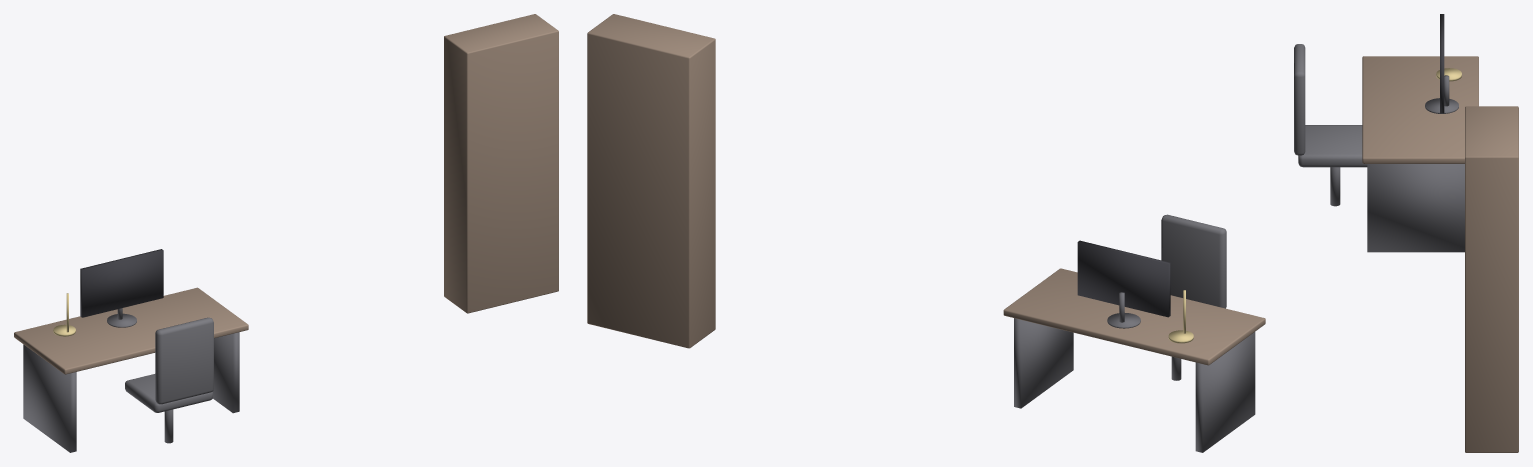
The model's file is room_home_office.glb.
The picture shows the model from 3 angles, left to right: view 1: azimuth 30°, elevation 25°; view 2: azimuth 150°, elevation 25°; view 3: azimuth 270°, elevation 25°; orthographic projection. The views are drawn at different scales.
Visible parts, largest first — view 1: Bookcase_Tower, Desk_Top, Chair_High_Back, Monitor_Panel, Desk_Leg_L, Desk_Leg_R, Chair_Cushion; view 2: Bookcase_Tower, Desk_Top, Monitor_Panel, Desk_Leg_L, Chair_High_Back, Desk_Leg_R; view 3: Bookcase_Tower, Desk_Top, Desk_Leg_R, Chair_Cushion, Chair_High_Back, Monitor_Panel, Chair_Column, Monitor_Base.
Part boxes in pixels (box(x1,y1,x2,y2)): Bookcase_Tower: box(444, 14, 558, 313); Desk_Top: box(14, 287, 248, 374); Chair_High_Back: box(155, 317, 213, 404); Monitor_Panel: box(80, 249, 163, 317); Desk_Leg_L: box(23, 344, 76, 452); Desk_Leg_R: box(212, 332, 239, 413); Chair_Cushion: box(125, 374, 212, 412); Bookcase_Tower: box(587, 14, 715, 348); Desk_Top: box(1003, 268, 1265, 365); Monitor_Panel: box(1077, 240, 1170, 317); Desk_Leg_L: box(1195, 332, 1255, 452); Chair_High_Back: box(1161, 214, 1226, 308); Desk_Leg_R: box(1014, 318, 1073, 408); Bookcase_Tower: box(1465, 106, 1518, 452); Desk_Top: box(1362, 56, 1478, 163); Desk_Leg_R: box(1367, 164, 1464, 252); Chair_Cushion: box(1298, 125, 1367, 167); Chair_High_Back: box(1294, 44, 1305, 155); Monitor_Panel: box(1440, 14, 1444, 113); Chair_Column: box(1330, 167, 1340, 206); Monitor_Base: box(1425, 98, 1458, 113).
Size of the model in its own units: 4.98 by 2.3 by 1.58.
